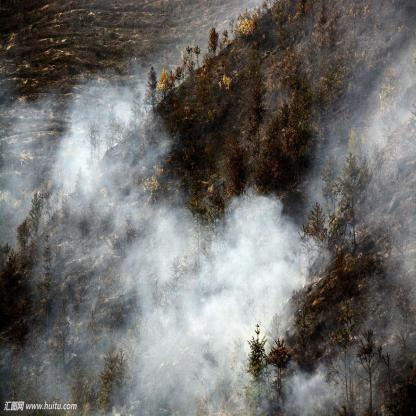smoke: (62, 77, 145, 226), (124, 316, 250, 414), (124, 195, 200, 313), (199, 247, 320, 318), (204, 190, 286, 249), (290, 366, 332, 416)
